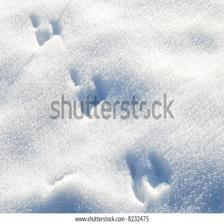rabbit: (66, 66, 110, 121), (29, 10, 66, 48)
